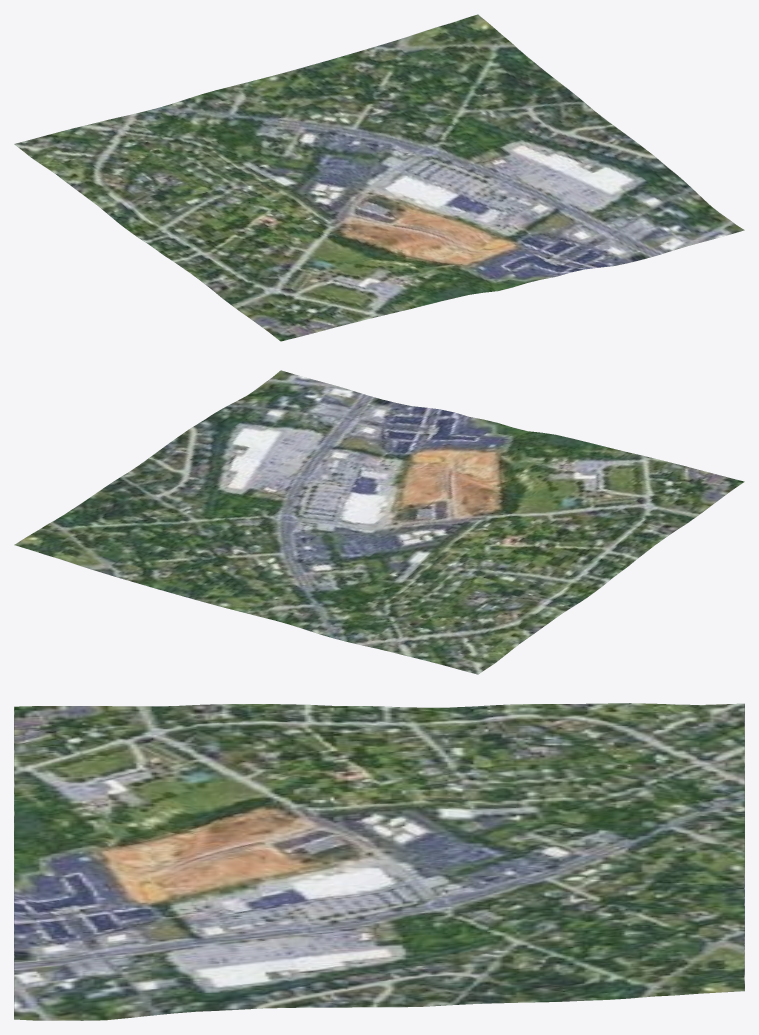
3 renders of one model, top to bottom at view 1: azimuth 30°, elevation 25°; view 2: azimuth 150°, elevation 25°; view 3: azimuth 270°, elevation 25°, orthographic. The views are drawn at different scales.
Size of the model in its own units: 975 by 50.28 by 971.
1 material, 1 textured.
